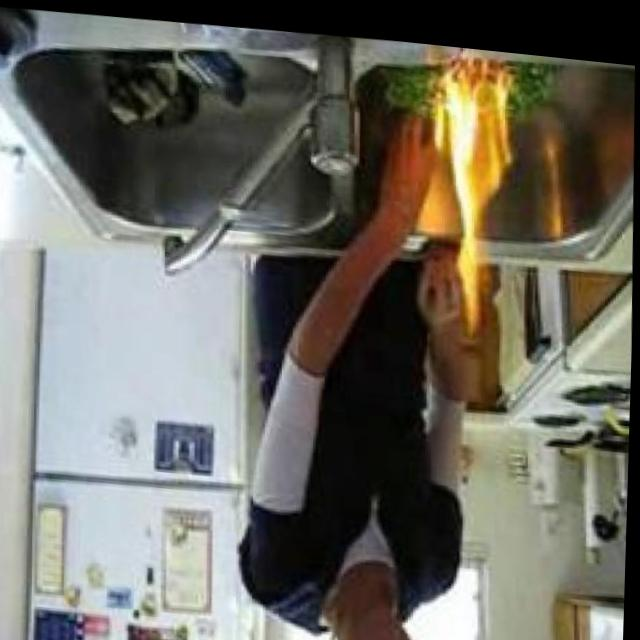Fire: (431, 55, 517, 316)
